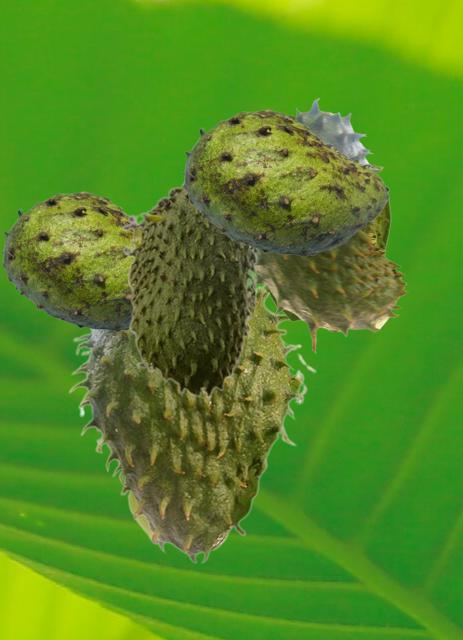guyabano: (68, 285, 316, 563), (257, 98, 407, 352), (122, 179, 261, 397), (182, 109, 388, 256), (1, 191, 132, 331), (264, 185, 390, 321)
